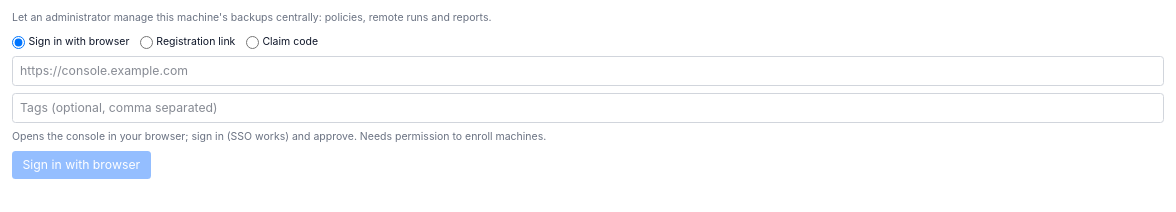
Test case: fleet agent › registers with a link token
Click the radio button labelled "Registration link" at {"x": 146, "y": 42}, box [140, 36, 153, 48]
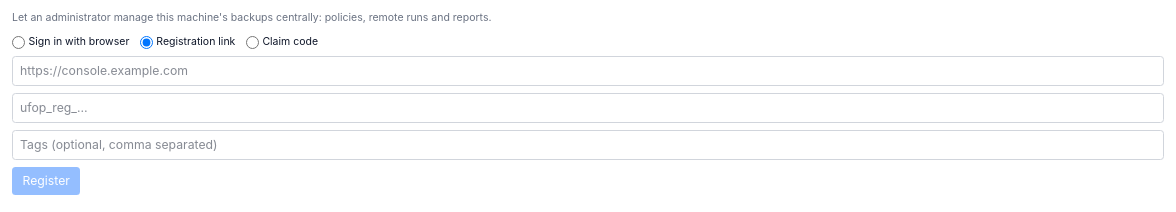
Type " https://console.example.com " into the field named "Console URL" at {"x": 588, "y": 71}, box [12, 56, 1164, 86]
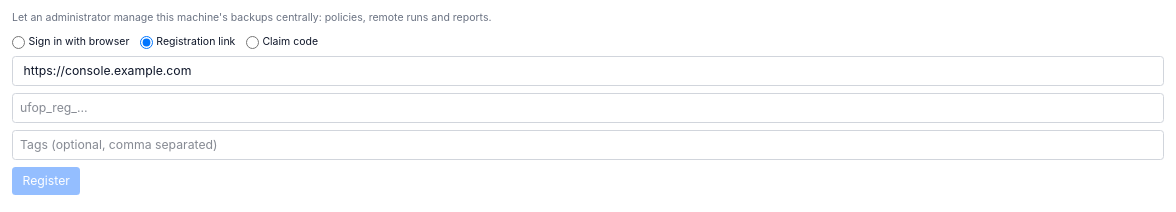
Type "ufop_reg_abc" into the password field named "Registration token" at {"x": 588, "y": 108}, box [12, 93, 1164, 123]
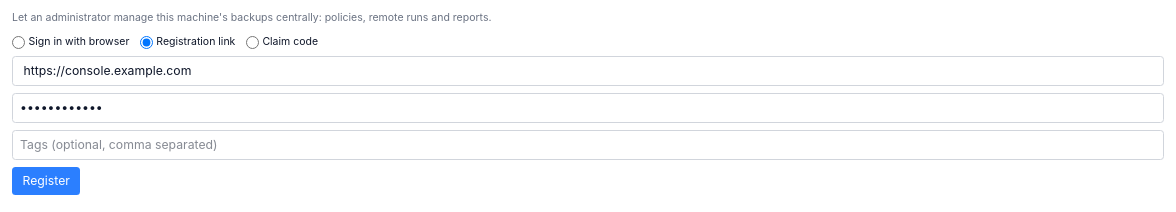
Type "lab, linux" into the field labelled "Tags" at {"x": 588, "y": 145}, box [12, 130, 1164, 160]
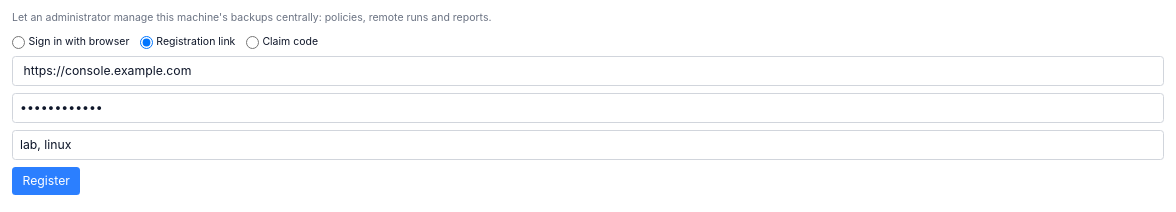
Click the button "Register" at {"x": 46, "y": 181}, box [12, 167, 80, 195]
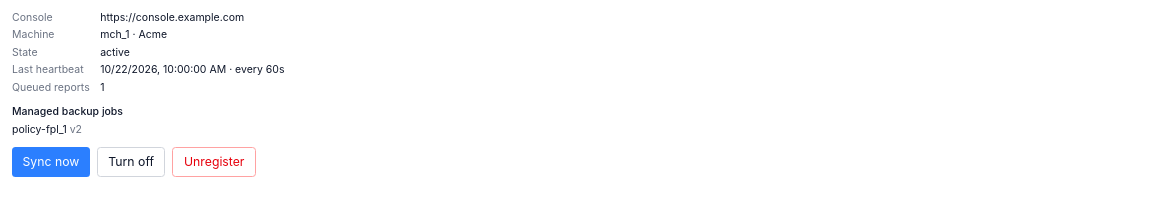
Result: the element with test id "fleet-agent-registered" is shown at [12, 10, 284, 177]
Result: the list item "policy-fpl_1 v2" is shown at [12, 122, 82, 136]
Result: the text "mch_1 · Acme" is shown at [100, 28, 167, 41]
